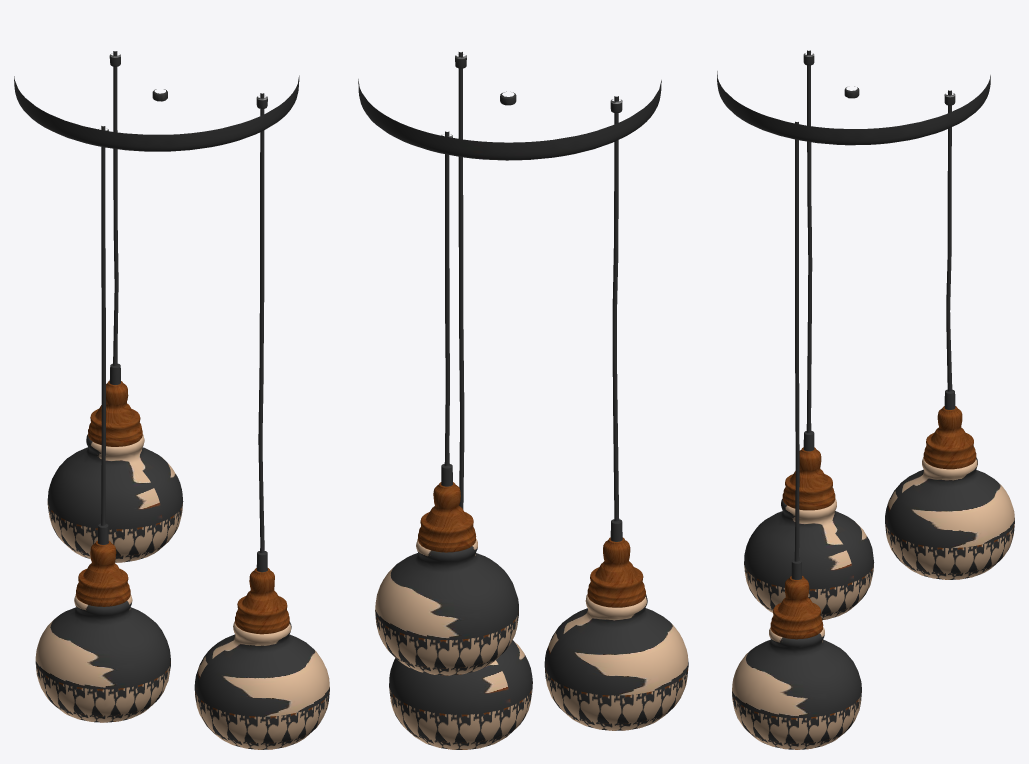
The model's file is abo-B071LD87KZ.glb.
The picture shows the model from 3 angles, left to right: view 1: azimuth 30°, elevation 25°; view 2: azimuth 150°, elevation 25°; view 3: azimuth 270°, elevation 25°; orthographic projection. The views are drawn at different scales.
Bounding box in the file's own units: 0.6074 × 1.41 × 0.6075.
Materials: 1 (1 with a texture image).
